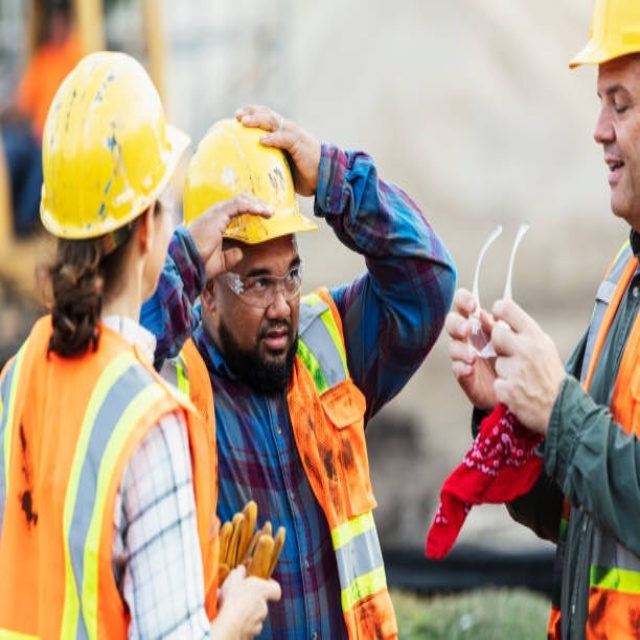Gafas: (212, 256, 306, 301), (148, 168, 179, 222)
Sin_gafas: (596, 77, 636, 125)
Sin_guantes: (489, 294, 568, 434), (232, 93, 316, 195), (189, 194, 272, 283), (209, 560, 289, 638), (447, 285, 494, 416)
Sin_mascara: (598, 144, 634, 211), (252, 322, 294, 365)
